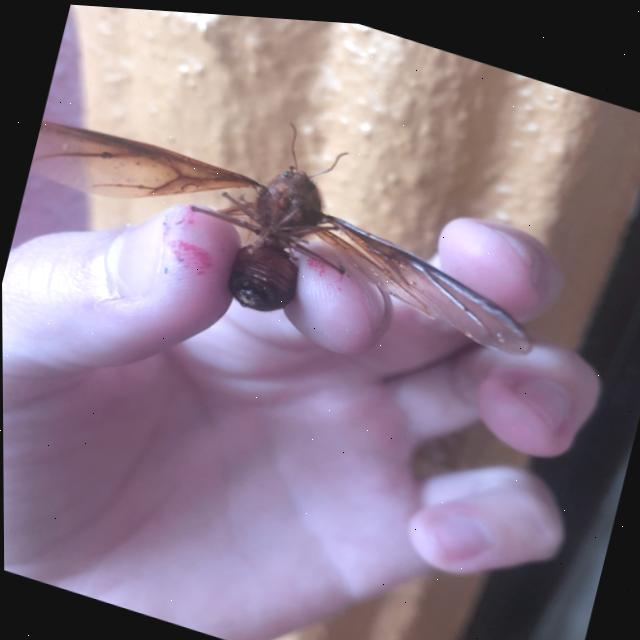Alive-Male-Alate: (12, 45, 567, 389)
